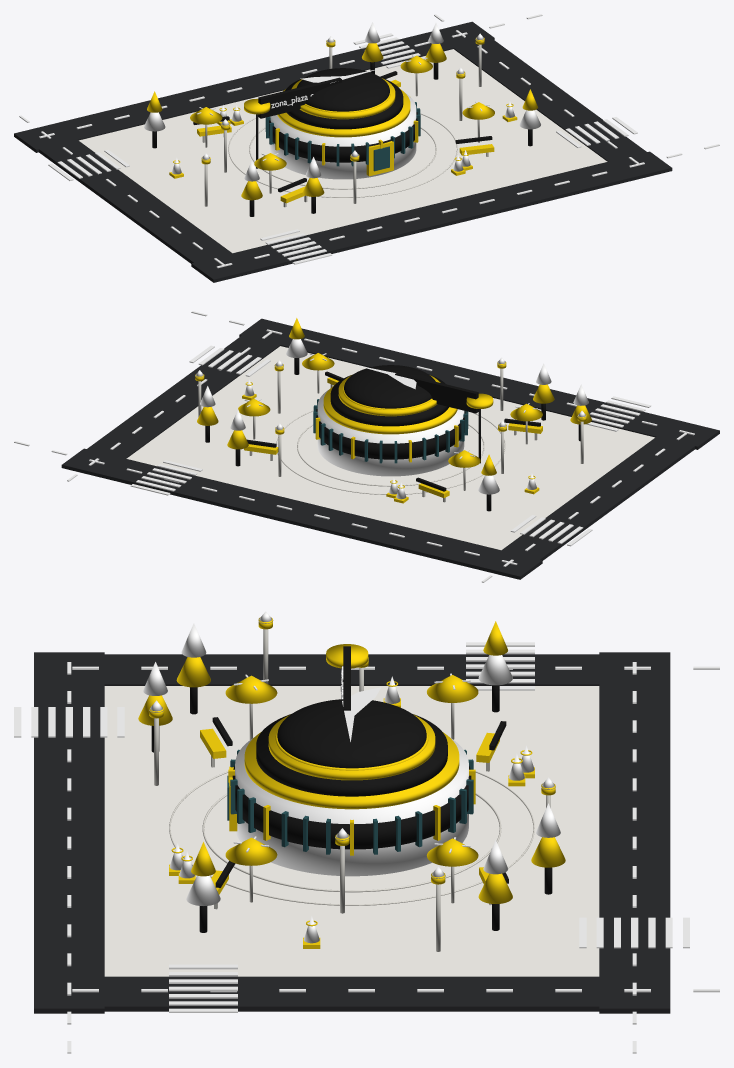
Rendered from zona_plaza_central_blender.glb.
3 renders of one model, top to bottom at view 1: azimuth 30°, elevation 25°; view 2: azimuth 150°, elevation 25°; view 3: azimuth 270°, elevation 25°, orthographic. The views are drawn at different scales.
Visible parts, largest first — view 1: large visible rounded square base, surrounding black road slab, surrounding black road slab.001, surrounding black road slab.002, surrounding black road slab.003, round white plaza central body, smooth black flattened plaza dome, continuous black facade band, black circular roof lip, thin yellow roof skirt, black label plaque, yellow raised dome ring (+2 smaller); view 2: large visible rounded square base, surrounding black road slab.001, surrounding black road slab, surrounding black road slab.002, surrounding black road slab.003, round white plaza central body, smooth black flattened plaza dome, continuous black facade band, black circular roof lip, thin yellow roof skirt, black label plaque, yellow raised dome ring; view 3: large visible rounded square base, surrounding black road slab.001, surrounding black road slab, surrounding black road slab.003, surrounding black road slab.002, round white plaza central body, smooth black flattened plaza dome, continuous black facade band, black circular roof lip, thin yellow roof skirt, yellow raised dome ring, subtle circular paving line two (+11 smaller).
Part boxes in pixels (x1,y1,x2,y2): large visible rounded square base: [79, 49, 607, 253]; surrounding black road slab: [191, 151, 672, 282]; surrounding black road slab.001: [14, 21, 494, 152]; surrounding black road slab.002: [20, 126, 249, 276]; surrounding black road slab.003: [441, 28, 665, 174]; round white plaza central body: [269, 93, 416, 179]; smooth black flattened plaza dome: [296, 68, 389, 111]; continuous black facade band: [269, 112, 417, 162]; black circular roof lip: [285, 77, 403, 129]; thin yellow roof skirt: [277, 89, 410, 137]; black label plaque: [258, 77, 341, 118]; yellow raised dome ring: [291, 78, 395, 119]; large visible rounded square base: [126, 346, 654, 550]; surrounding black road slab.001: [61, 448, 542, 579]; surrounding black road slab: [239, 318, 719, 449]; surrounding black road slab.002: [484, 426, 713, 564]; surrounding black road slab.003: [68, 326, 290, 468]; round white plaza central body: [317, 390, 464, 476]; smooth black flattened plaza dome: [344, 365, 435, 408]; continuous black facade band: [316, 409, 465, 459]; black circular roof lip: [330, 374, 448, 426]; thin yellow roof skirt: [323, 386, 457, 434]; black label plaque: [395, 372, 478, 413]; yellow raised dome ring: [338, 375, 440, 416]; large visible rounded square base: [104, 686, 599, 976]; surrounding black road slab.001: [599, 652, 670, 1013]; surrounding black road slab: [34, 652, 104, 1013]; surrounding black road slab.003: [45, 976, 658, 1011]; surrounding black road slab.002: [45, 654, 658, 685]; round white plaza central body: [235, 737, 468, 876]; smooth black flattened plaza dome: [277, 699, 426, 768]; continuous black facade band: [232, 766, 471, 849]; black circular roof lip: [256, 714, 447, 796]; thin yellow roof skirt: [244, 732, 459, 809]; yellow raised dome ring: [268, 714, 435, 780]; subtle circular paving line two: [169, 771, 534, 905].
Bounding box in the file's own units: 10.08 × 1.66 × 7.37.
